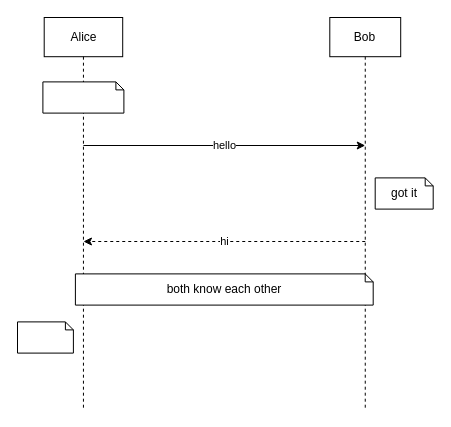
This 451x427 diagram has some shape labels left out. Each missing label, with the centre of its shape:
"done" goes at [44,337].
"thinking" goes at [83,97].
